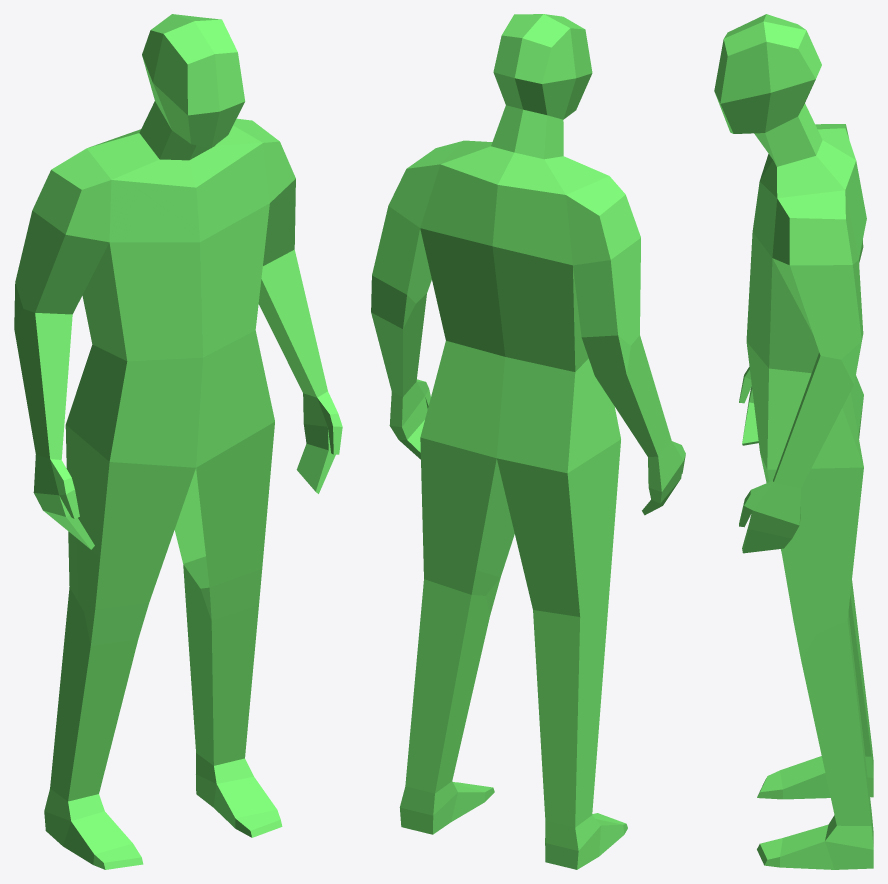
Rendered from GGJ2025_Humano_Verde.fbx.
3 renders of one model, left to right at view 1: azimuth 30°, elevation 25°; view 2: azimuth 150°, elevation 25°; view 3: azimuth 270°, elevation 25°, orthographic. The views are drawn at different scales.
Visible parts, largest first — view 1: Human.001; view 2: Human.001; view 3: Human.001.
Boxes of the visible parts, x1,y1,x2,y2 form: Human.001: (14, 14, 342, 869); Human.001: (371, 14, 685, 869); Human.001: (714, 14, 873, 869).
Size of the model in its own units: 101 by 282 by 50.76.
